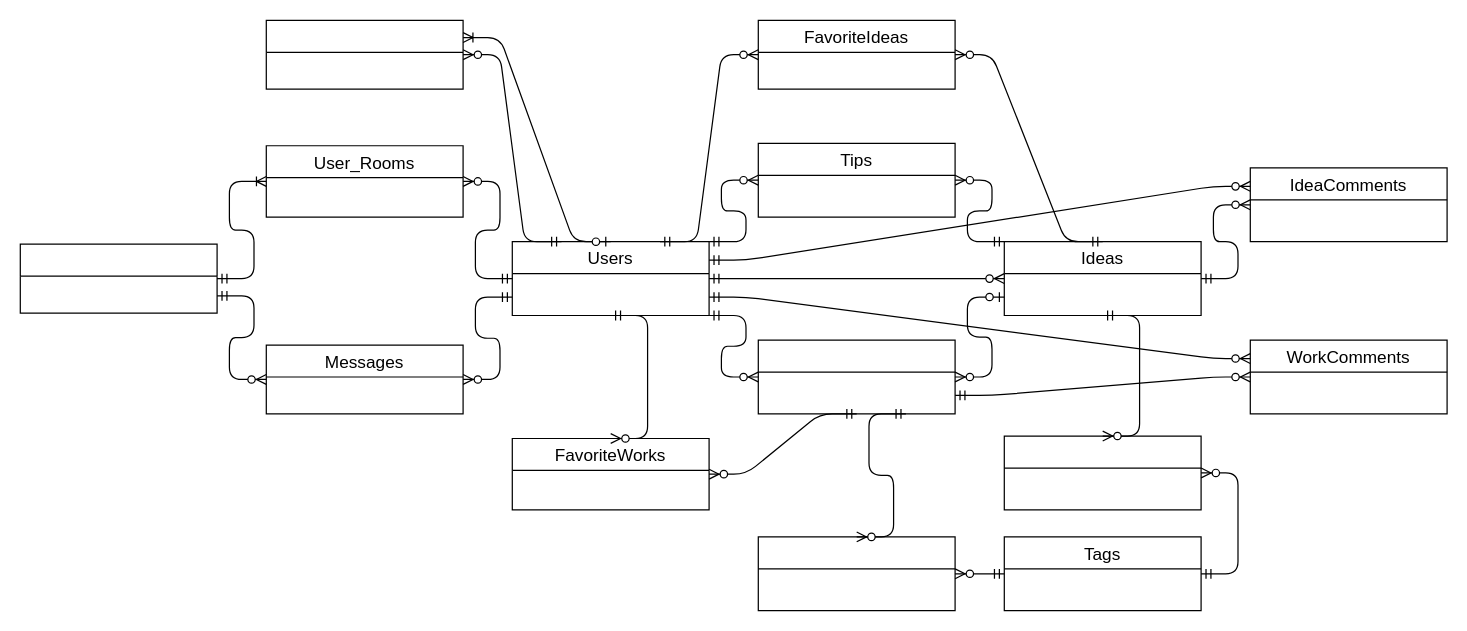
This 1467x631 diagram has some shape labels left out. The shapes that lost their labels are listed below. From the top down, each one's centre as x and y in pixels, then its label:
At point (364, 54): "FavoriteUsers".
At point (118, 278): "Rooms".
At point (856, 376): "Works".
At point (1102, 472): "IdeaTags".
At point (856, 573): "WorkTags".
